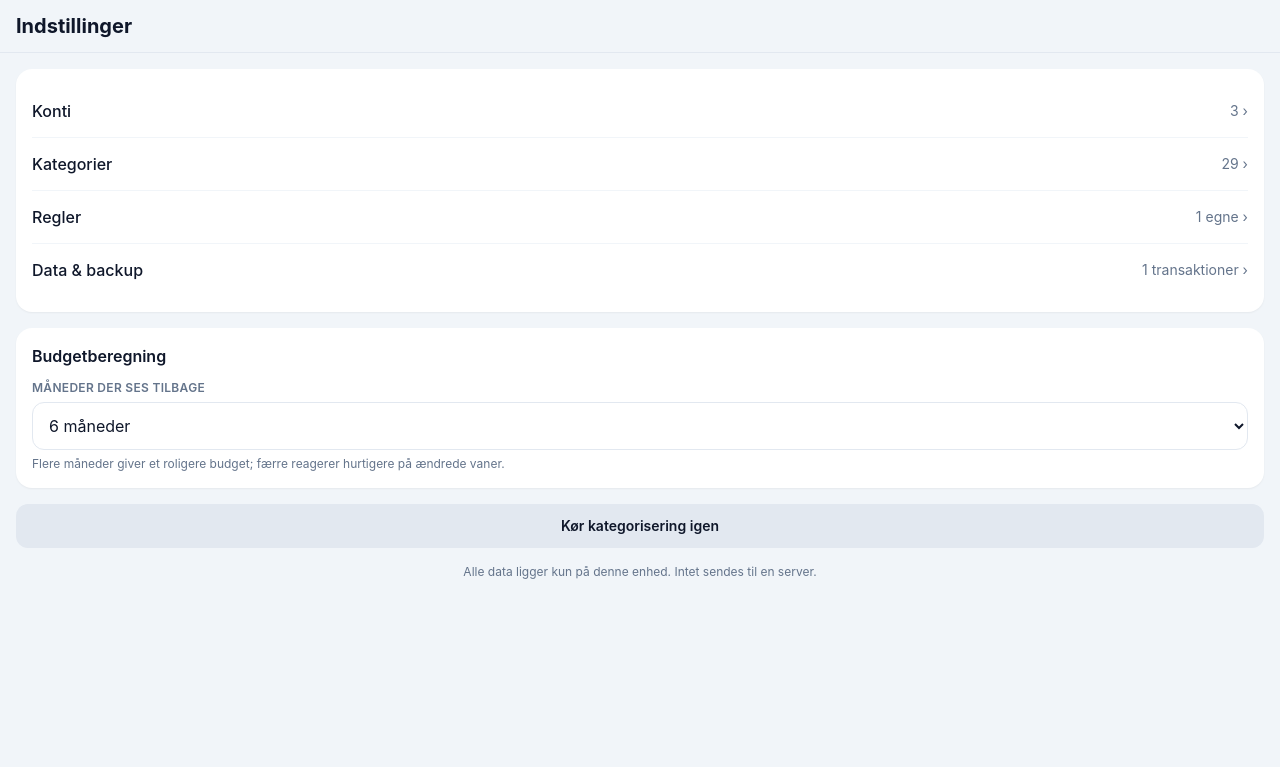
it: editing rules › edits the pattern of a rule
Click the button "Regler 1 egne ›": (57, 217) [32,190,1248,243]
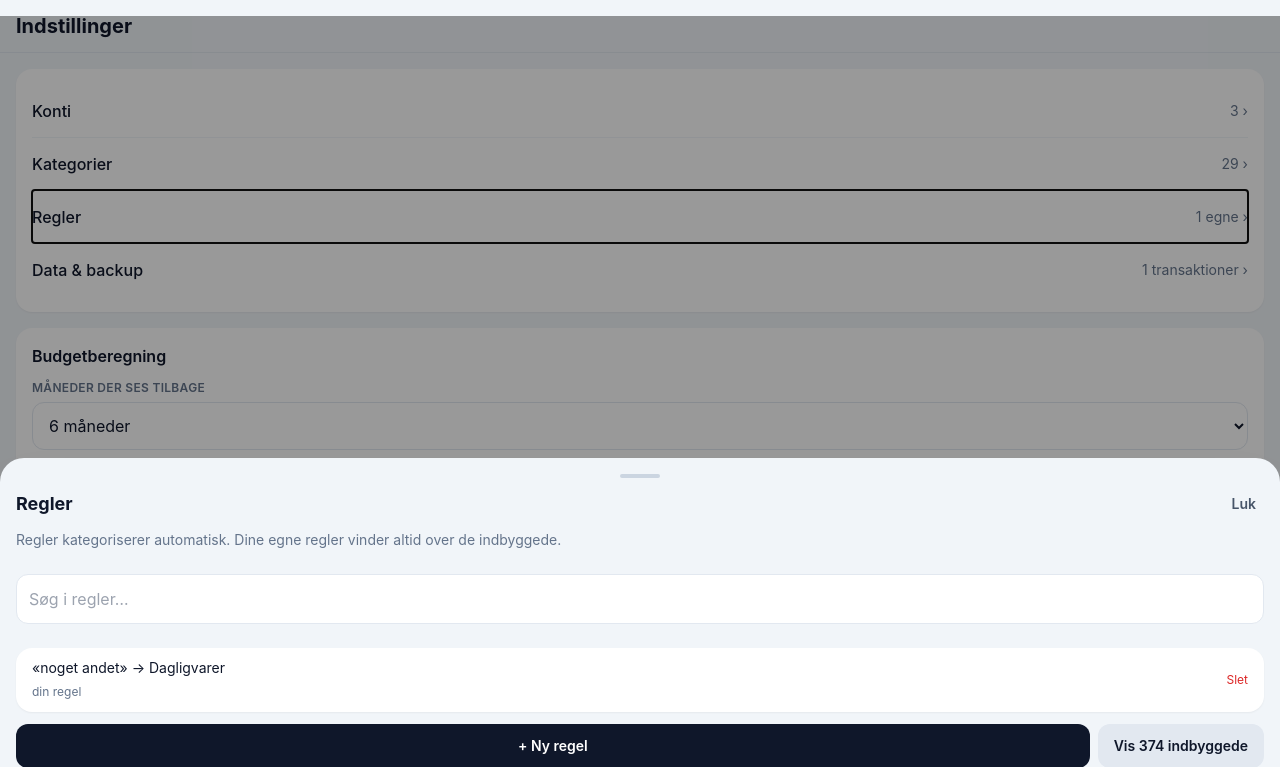
Click the button "«noget andet» → Dagligvarer din regel": (80, 668) [32,658,1218,702]
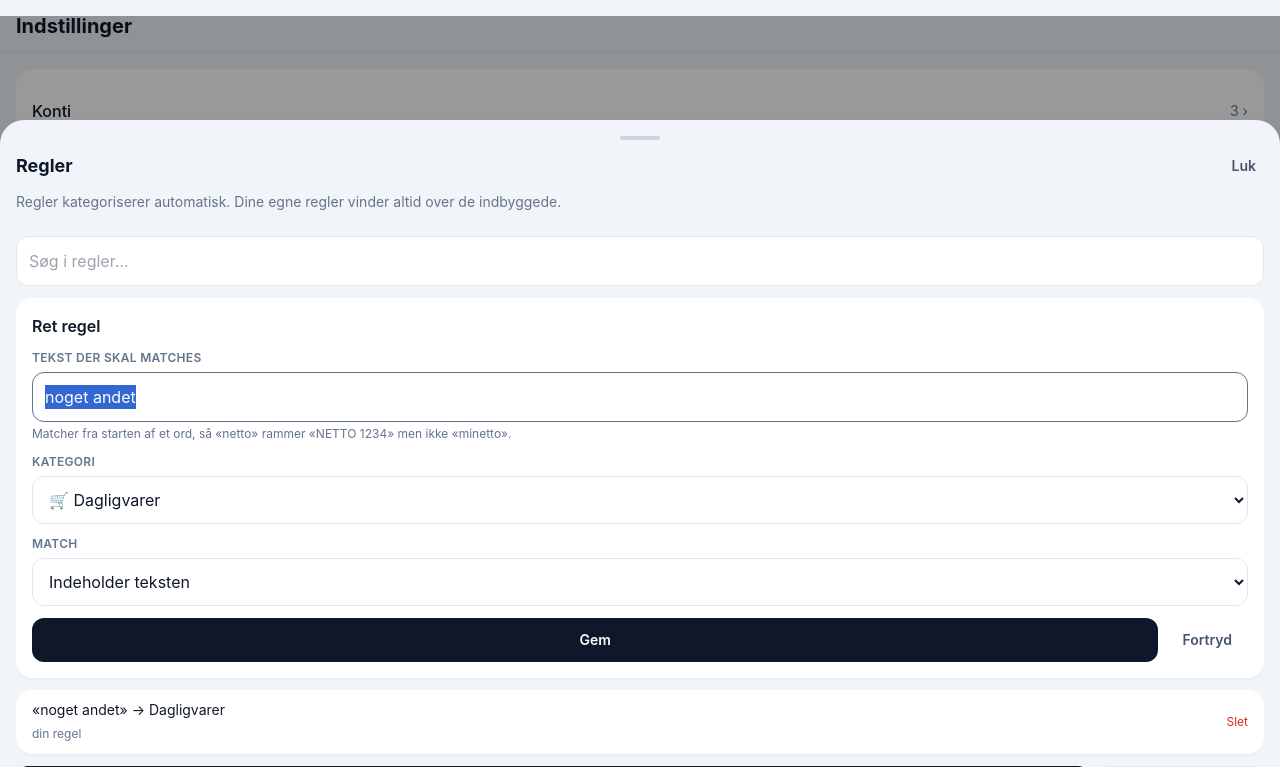
Replace the text in the field labelled "Tekst der skal matches" with "slagter": (640, 397) [32,372,1248,422]
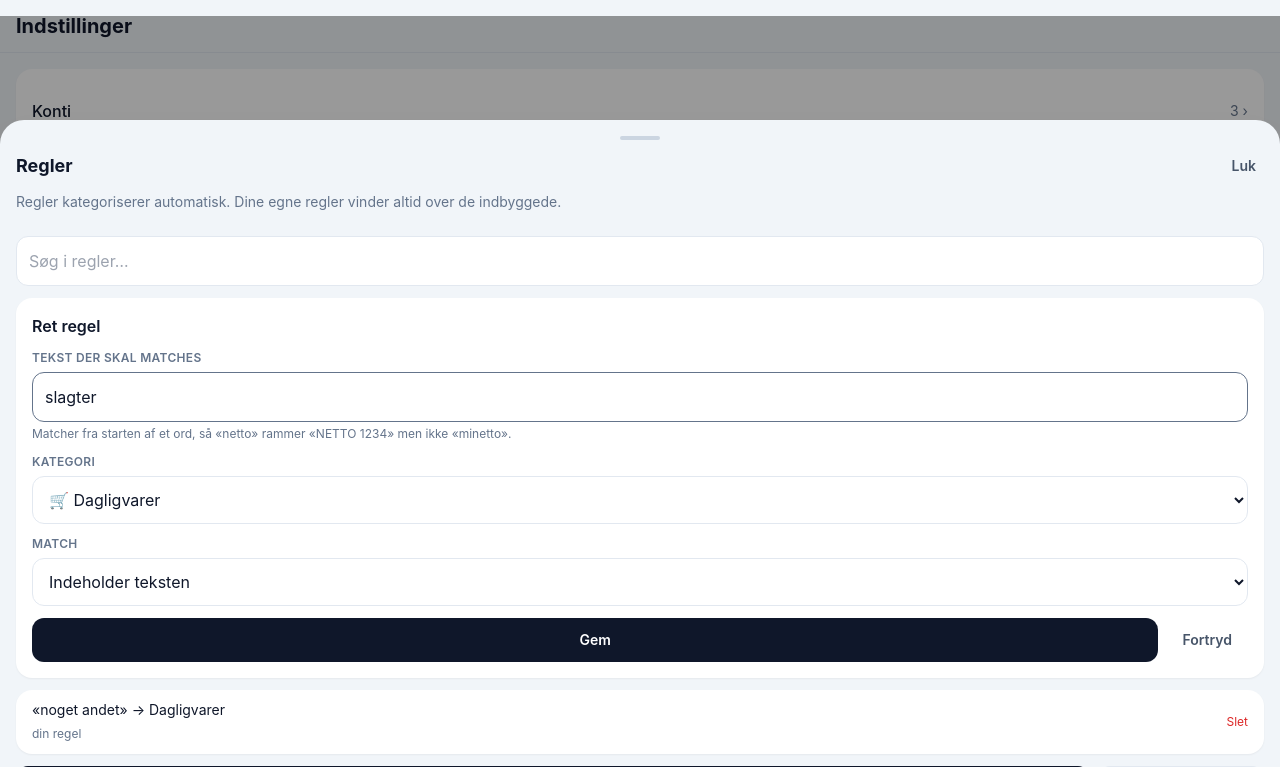
Click the button "Gem": (595, 640) [32,618,1158,662]
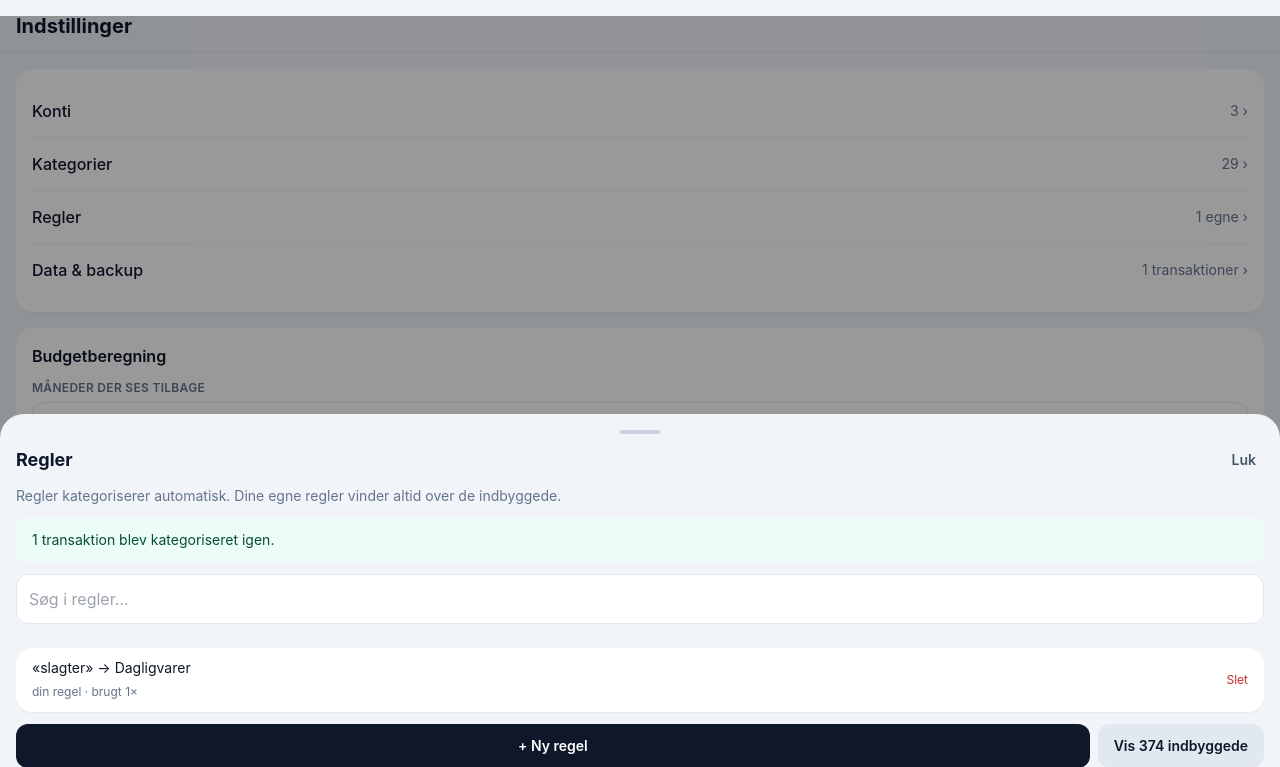
Now the text "1 transaktion blev kategoriseret igen." is shown, box [32,531,274,548]
